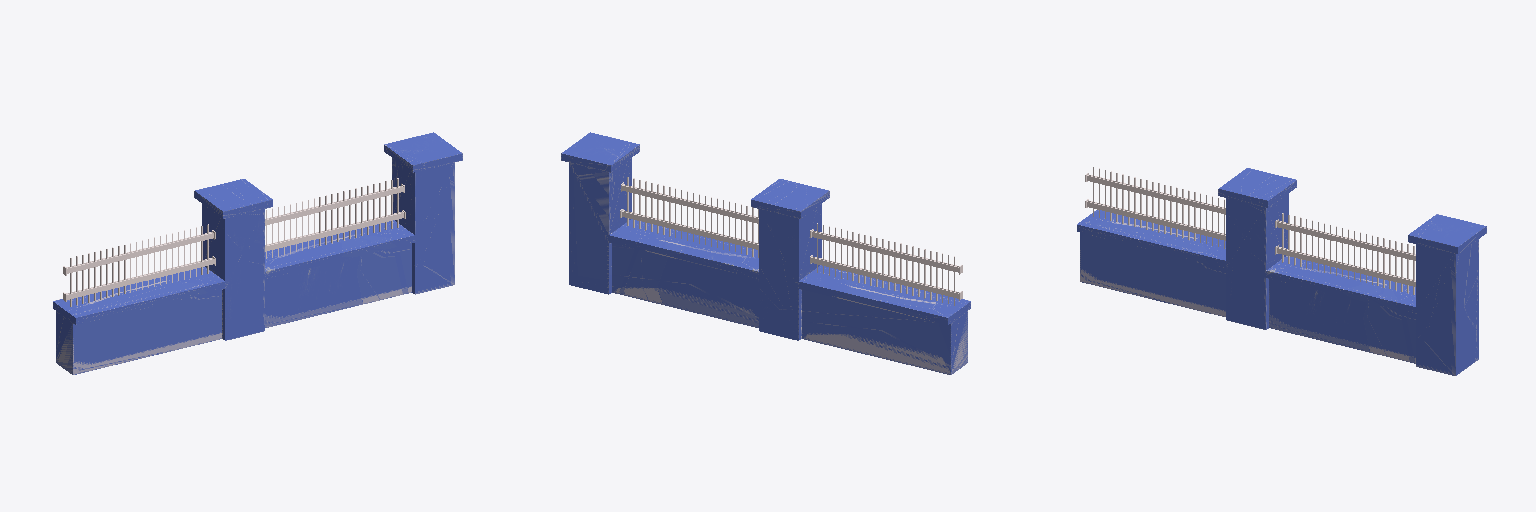
3 views of the same model, side by side, from view 1: azimuth 30°, elevation 25°; view 2: azimuth 150°, elevation 25°; view 3: azimuth 330°, elevation 25° (orthographic).
Visible parts, largest first — view 1: 3d-model; view 2: 3d-model; view 3: 3d-model.
Boxes of the visible parts, <box> form: 3d-model: <box>53,132,462,374</box>; 3d-model: <box>561,132,970,374</box>; 3d-model: <box>1077,167,1486,375</box>.
Size of the model in its own units: 13.78 by 4.54 by 1.79.
Materials: 1 (1 with a texture image).